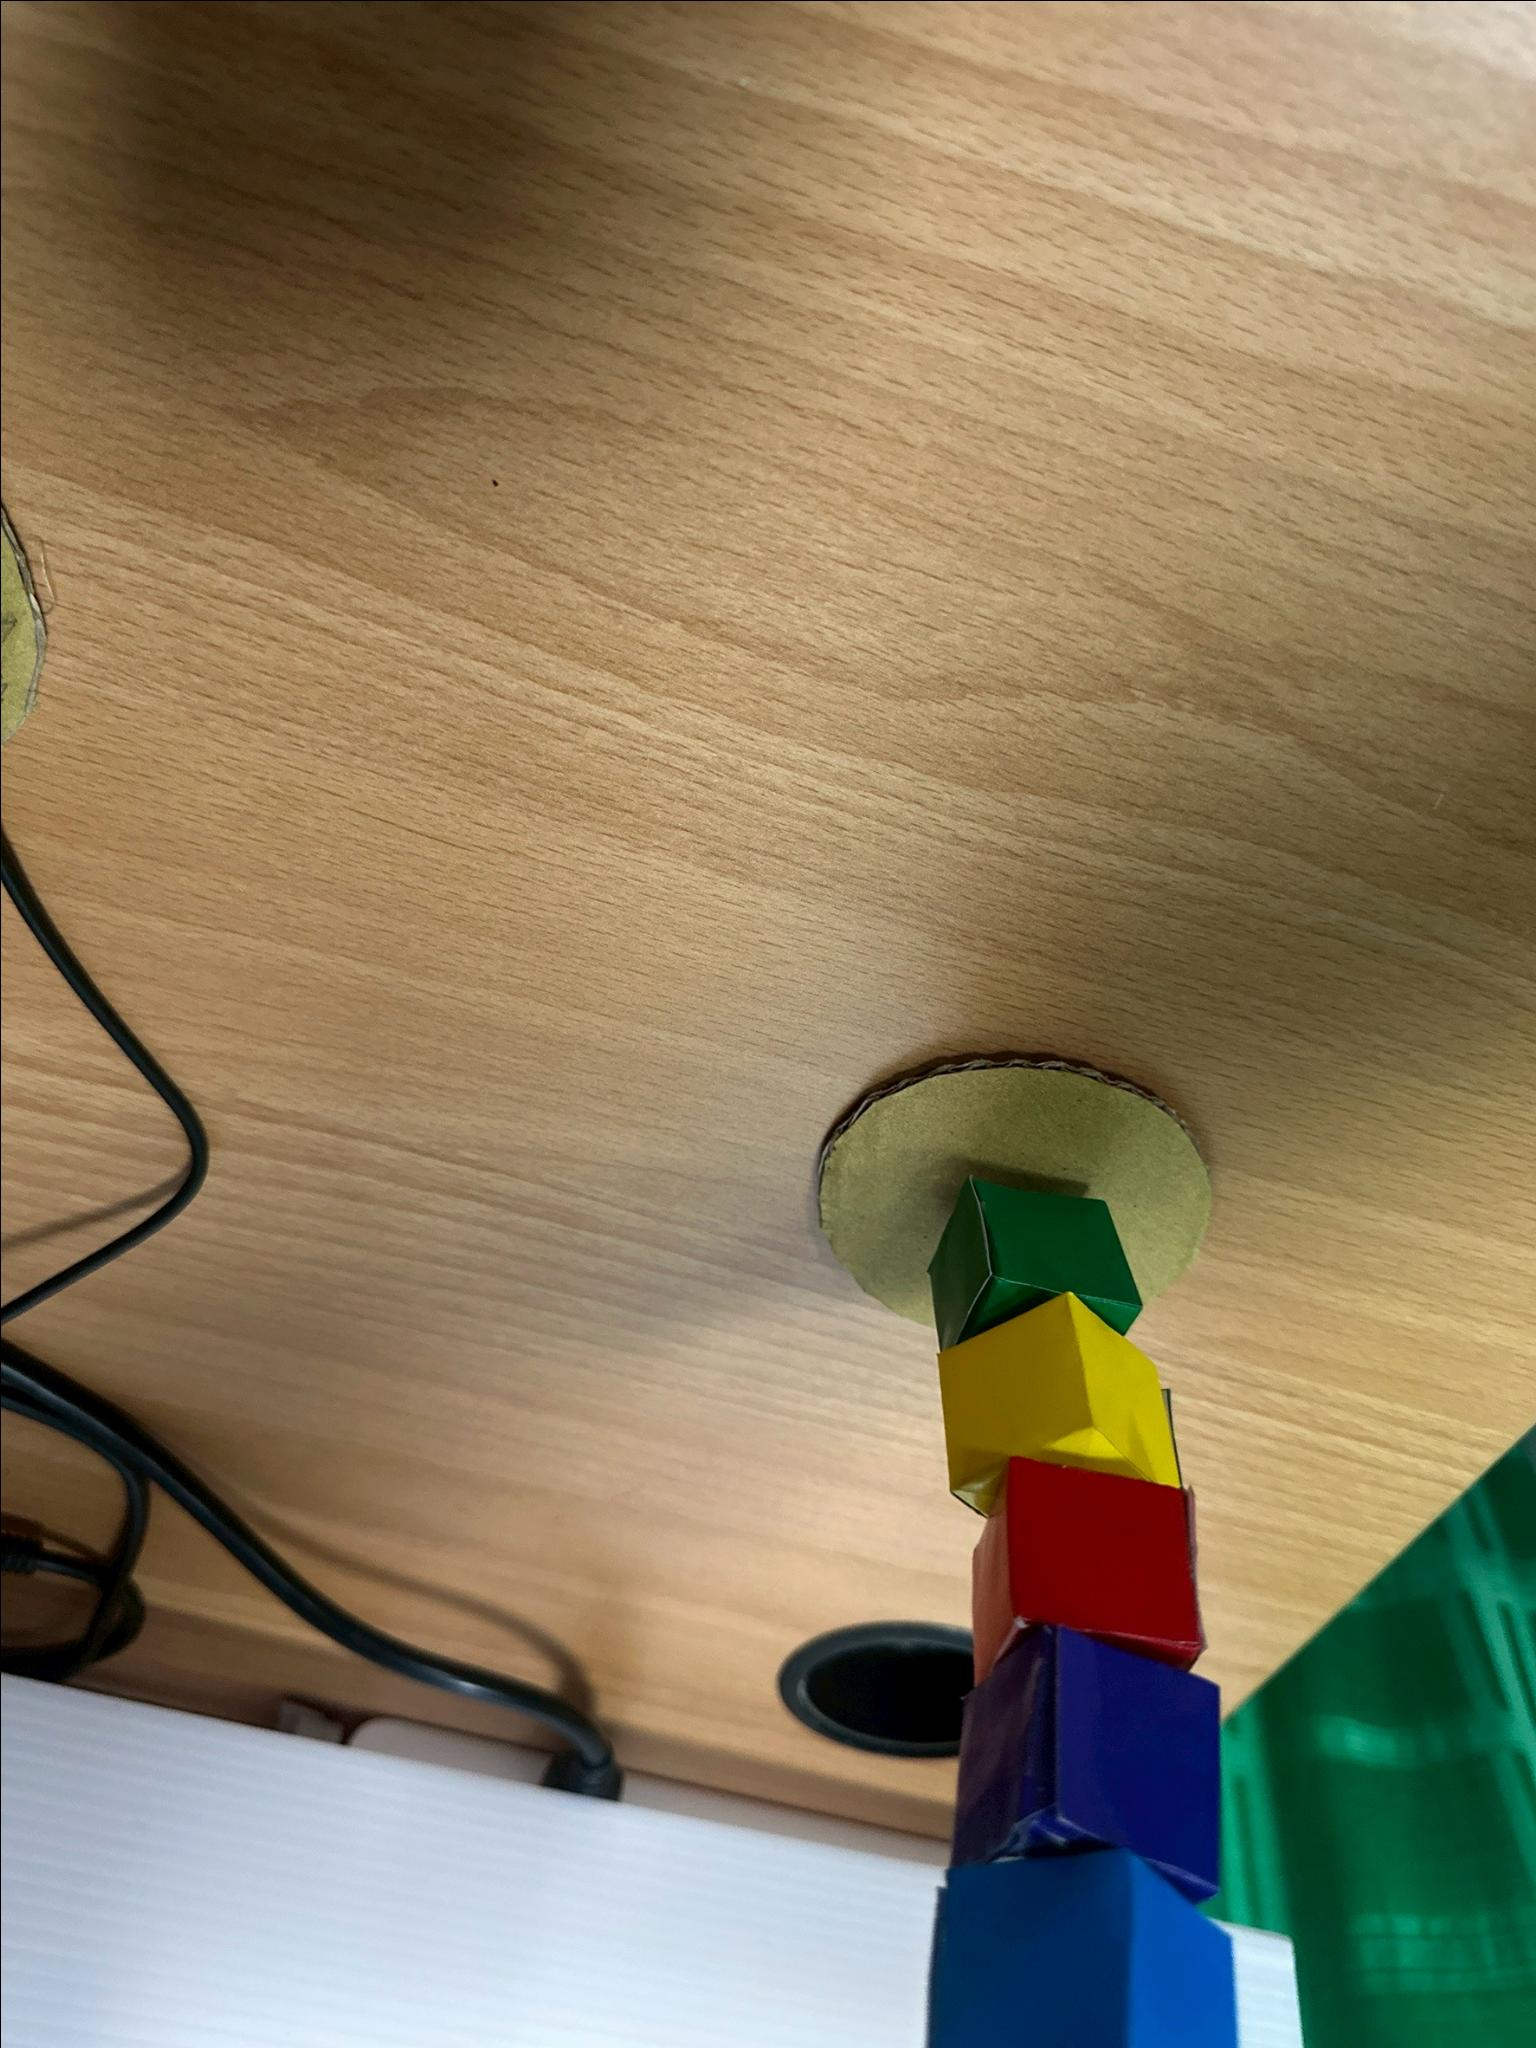base: (818, 1058, 1210, 1324)
